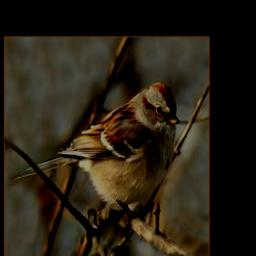Sparrow: (10, 81, 179, 245)
